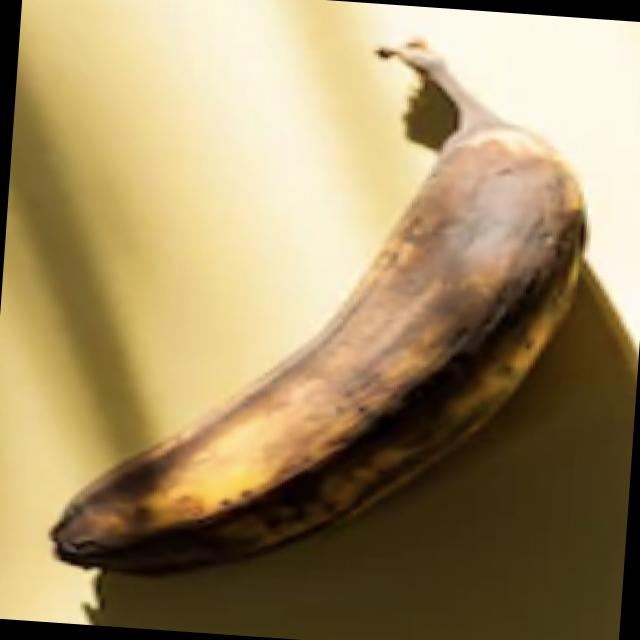rotten-banana: (38, 22, 600, 600)
